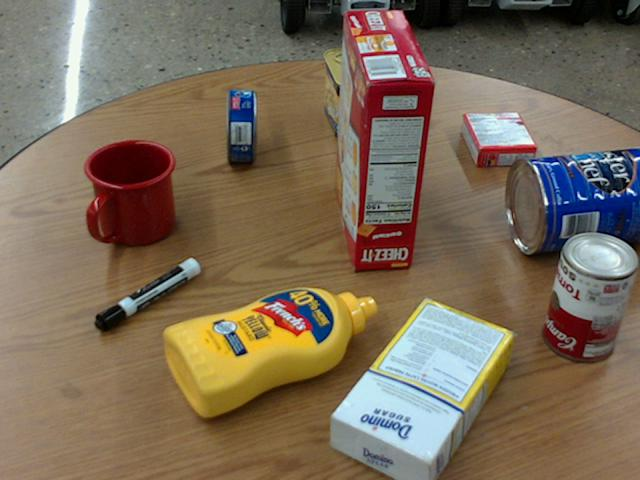cracker_box: (334, 10, 434, 269)
gelatin_box: (460, 112, 536, 166)
large_marker: (94, 257, 199, 330)
master_chef_can: (505, 145, 639, 253)
mug: (84, 140, 175, 246)
mustard_bottle: (162, 286, 376, 418)
potted_meat_can: (322, 48, 380, 143)
sugar_box: (328, 297, 514, 479)
tomato_soup_can: (543, 229, 637, 358)
tuna_fish_can: (225, 88, 256, 161)
